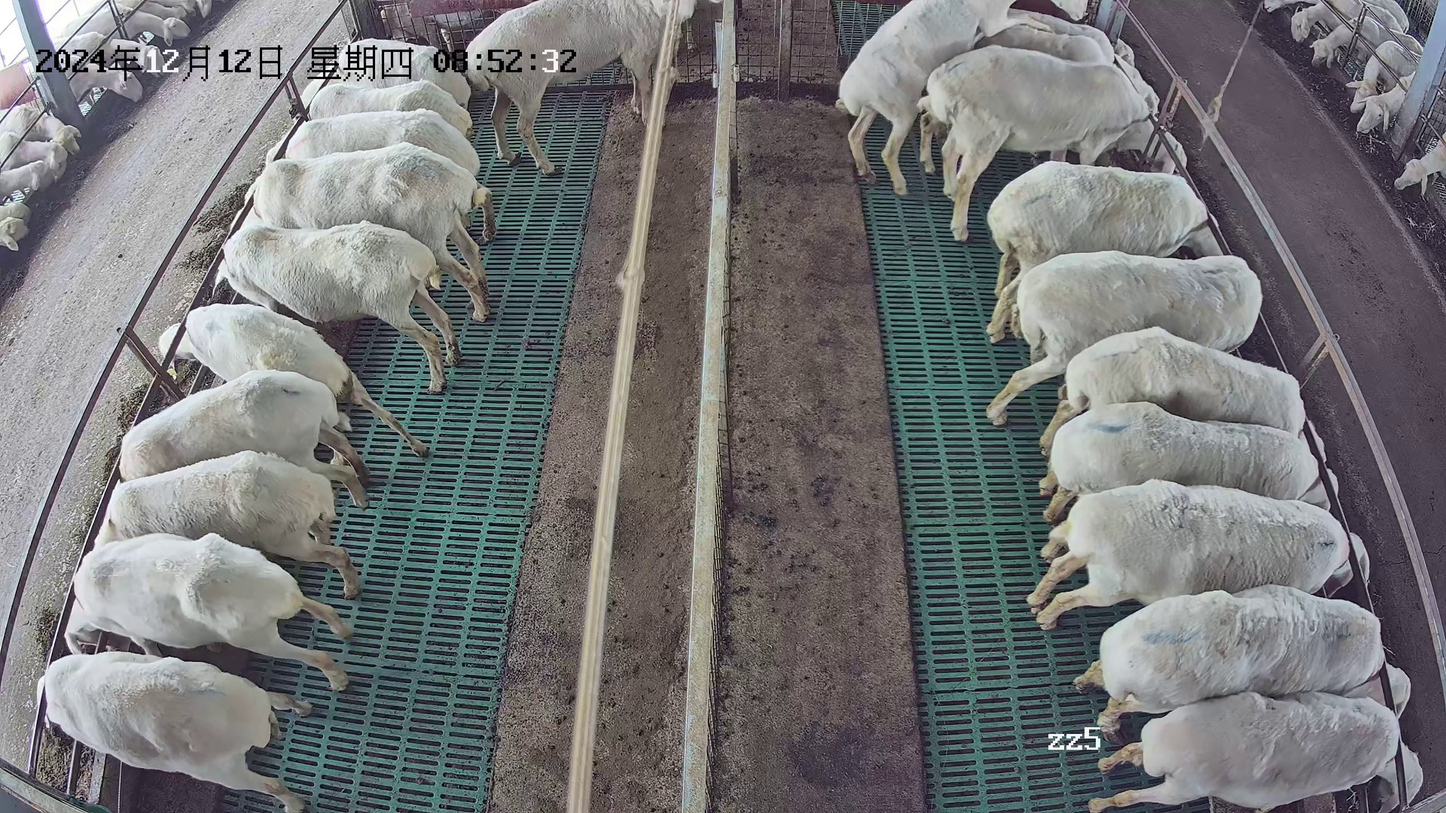Nmounting: (835, 1, 1143, 197)
